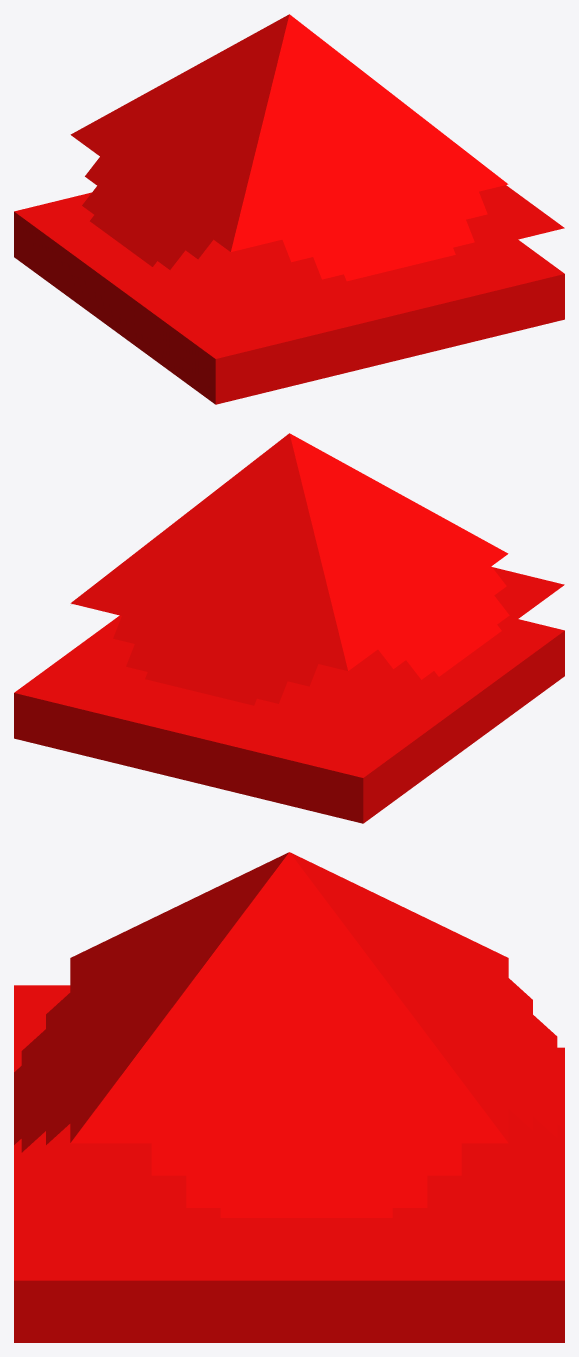
File: polyMesh.gltf
3 renders of one model, top to bottom at view 1: azimuth 30°, elevation 25°; view 2: azimuth 150°, elevation 25°; view 3: azimuth 270°, elevation 25°, orthographic. The views are drawn at different scales.
Visible parts, largest first — view 1: pyramid, mesh; view 2: pyramid, mesh; view 3: pyramid, mesh.
Boxes of the visible parts, box(x1,y1,x2,y2) form: pyramid: box(70, 14, 564, 313); mesh: box(14, 192, 564, 404); pyramid: box(70, 433, 564, 705); mesh: box(14, 615, 564, 823); pyramid: box(14, 852, 564, 1217); mesh: box(14, 1047, 564, 1342).
Size of the model in its own units: 1 by 0.75 by 1.
Materials: 1 (1 with a texture image).
